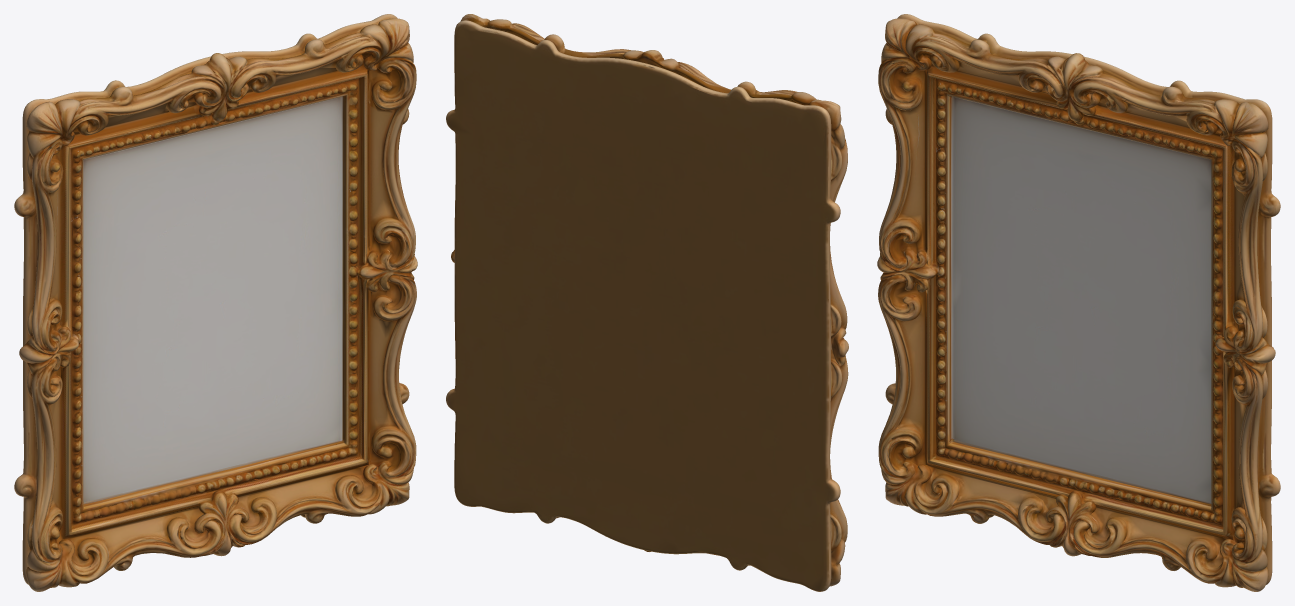
Rendered from rahmen1.glb.
The picture shows the model from 3 angles, left to right: view 1: azimuth 30°, elevation 25°; view 2: azimuth 150°, elevation 25°; view 3: azimuth 330°, elevation 25°; orthographic projection.
Visible parts, largest first — view 1: node_0; view 2: node_0; view 3: node_0.
Boxes of the visible parts, bbox=[...] form: node_0: bbox=[14, 14, 417, 591]; node_0: bbox=[446, 14, 848, 591]; node_0: bbox=[877, 14, 1280, 591].
Bounding box in the file's own units: 0.8016 × 0.9722 × 0.0724.
1 material, 1 textured.
